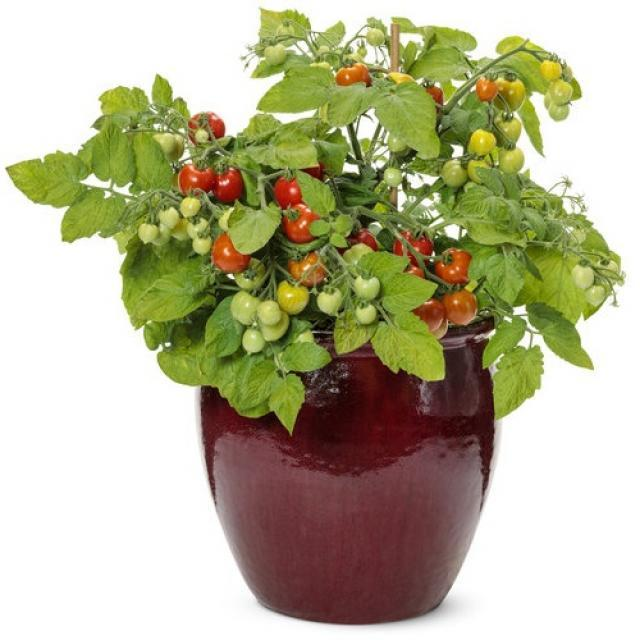tomato: (6, 10, 626, 434)
